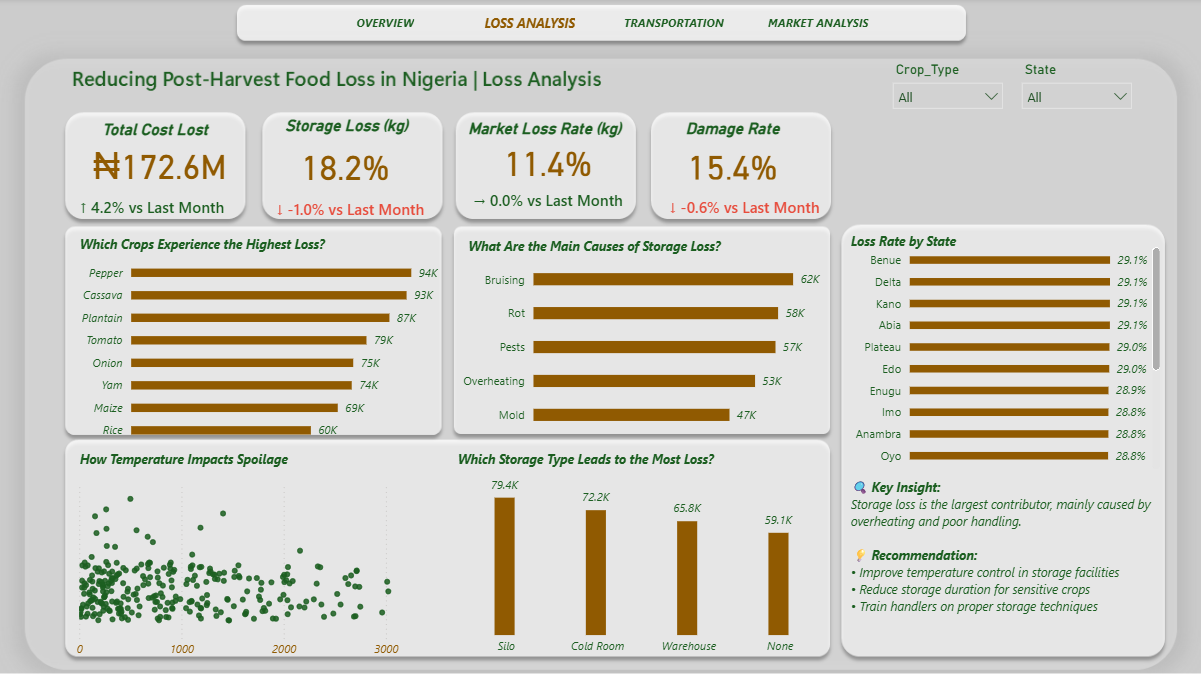

What the dashboard file says about the page in this screenshot:
{"tool":"powerbi","page":{"name":"LOSS ANALYSIS","canvas":[1280,720],"ordinal":1},"visuals":[{"type":"card","fields":{"Values":["--Measures_Loss.Loss Cost"]},"box":[94.4,150.4,156.8,49.6],"z":0},{"type":"card","fields":{"Values":["--Measures_Loss.Market Loss (%)"]},"box":[505.6,147.2,155.2,52.8],"z":1000,"group":"g1"},{"type":"textbox","box":[83,246.8,356.5,30.4],"z":1000},{"type":"card","fields":{"Values":["--Measures_Loss.Damage Rate (%)"]},"box":[702.4,155.2,152,41.6],"z":2000},{"type":"textbox","box":[493.8,123.2,186,38],"z":3000,"group":"g1"},{"type":"textbox","box":[724.8,123.2,163.2,36.8],"z":3000},{"type":"clusteredBarChart","fields":{"Category":["Dim_Crop.Crop_Type"],"Y":["_Measures.Total Spoilage"]},"box":[77.5,263.8,395,213.8],"z":4000},{"type":"textbox","box":[107.2,124.8,168,36.8],"z":5000},{"type":"card","fields":{"Values":["--Measures_Loss.Storage Loss (%)"]},"box":[299.2,153.6,139.2,44.8],"z":6000},{"type":"textbox","box":[494.7,247.7,302.2,28.6],"z":7000},{"type":"textbox","box":[300.8,120,163.2,38.4],"z":8000},{"type":"clusteredBarChart","fields":{"Category":["storage_loss.Loss_Reason"],"Y":["--Measures_Loss.Storage Loss"]},"box":[483.8,263.8,402.5,205],"z":9000},{"type":"textbox","box":[484.1,473.9,313.9,32.4],"z":10000},{"type":"scatterChart","fields":{"X":["storage_loss.Quantity_Spoiled_kg"],"Y":["Sum(storage_loss.Temperature_C)"]},"box":[77.5,503.8,406.2,203.8],"z":11000},{"type":"textbox","box":[83,473.9,275.4,28.4],"z":12000},{"type":"pageNavigator","box":[340,14,602,24],"z":13000},{"type":"columnChart","fields":{"Category":["farm_production.Storage_Type"],"Y":["--Measures_Loss.Storage Loss"]},"box":[484.1,491.1,403,213.7],"z":14000},{"type":"slicer","fields":{"Values":["farm_production.Crop_Type"]},"box":[940,61.7,136.7,61.7],"z":15000},{"type":"slicer","fields":{"Values":["farm_production.State"]},"box":[1076.7,61.7,136.7,61.7],"z":16000},{"type":"textbox","box":[900.8,504,337.6,204.8],"z":17000},{"type":"cardVisual","fields":{"Data":["--Measures_Loss.Loss Cost Subtext"]},"box":[58.7,192.4,228.9,56.7],"z":18000},{"type":"cardVisual","fields":{"Data":["--Measures_Loss.Damage Rate Subtext"]},"box":[684.6,192.4,228.9,56.7],"z":19000},{"type":"group","id":"g1","title":"Group 1","box":[475.2,123.2,230.4,120],"z":20000},{"type":"cardVisual","fields":{"Data":["--Measures_Loss.Market Loss Subtext"]},"box":[475.2,185.6,228.9,56.7],"z":20001,"group":"g1"},{"type":"barChart","fields":{"Category":["market_demand.State"],"Y":["--Measures_Loss.Loss Rate %"]},"box":[887.1,251.1,350.4,253.2],"z":21000},{"type":"cardVisual","fields":{"Data":["--Measures_Loss.Storage Loss Subtext"]},"box":[267.6,194.4,228.9,56.7],"z":22000},{"type":"textbox","box":[900.3,242.9,326.1,38.2],"z":23000}]}

Visuals, with their boxes in screenshot pixels (x1, y1, x2, y2), scaled from the page's 1280x720 canvas onto the 1201x676 screenshot:
card - --Measures_Loss.Loss Cost: BBox(89, 141, 236, 188)
card - --Measures_Loss.Market Loss (%): BBox(474, 138, 620, 188)
textbox: BBox(78, 232, 412, 260)
card - --Measures_Loss.Damage Rate (%): BBox(659, 146, 802, 185)
textbox: BBox(463, 116, 638, 151)
textbox: BBox(680, 116, 833, 150)
clusteredBarChart - Dim_Crop.Crop_Type x _Measures.Total Spoilage: BBox(73, 248, 443, 448)
textbox: BBox(101, 117, 258, 152)
card - --Measures_Loss.Storage Loss (%): BBox(281, 144, 411, 186)
textbox: BBox(464, 233, 748, 259)
textbox: BBox(282, 113, 435, 149)
clusteredBarChart - storage_loss.Loss_Reason x --Measures_Loss.Storage Loss: BBox(454, 248, 832, 440)
textbox: BBox(454, 445, 749, 475)
scatterChart - storage_loss.Quantity_Spoiled_kg x Sum(storage_loss.Temperature_C): BBox(73, 473, 454, 664)
textbox: BBox(78, 445, 336, 472)
pageNavigator: BBox(319, 13, 884, 36)
columnChart - farm_production.Storage_Type x --Measures_Loss.Storage Loss: BBox(454, 461, 832, 662)
slicer - farm_production.Crop_Type: BBox(882, 58, 1010, 116)
slicer - farm_production.State: BBox(1010, 58, 1139, 116)
textbox: BBox(845, 473, 1162, 665)
cardVisual - --Measures_Loss.Loss Cost Subtext: BBox(55, 181, 270, 234)
cardVisual - --Measures_Loss.Damage Rate Subtext: BBox(642, 181, 857, 234)
"Group 1" group: BBox(446, 116, 662, 228)
cardVisual - --Measures_Loss.Market Loss Subtext: BBox(446, 174, 661, 227)
barChart - market_demand.State x --Measures_Loss.Loss Rate %: BBox(832, 236, 1161, 473)
cardVisual - --Measures_Loss.Storage Loss Subtext: BBox(251, 183, 466, 236)
textbox: BBox(845, 228, 1151, 264)
